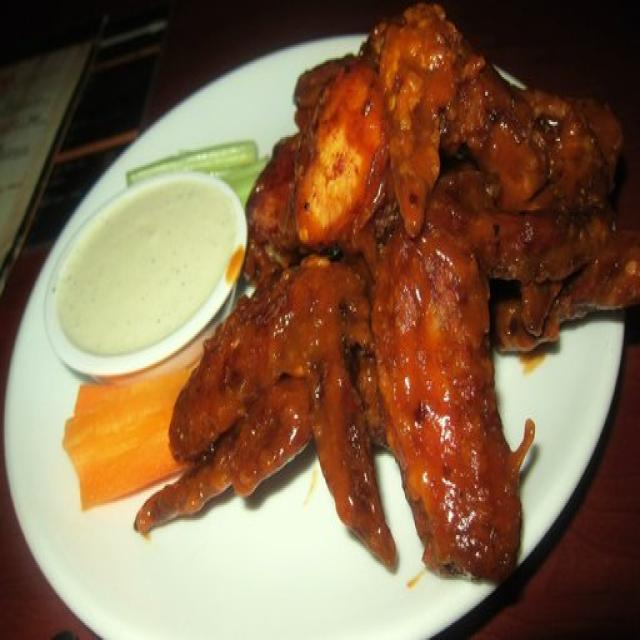Frango: (173, 267, 398, 573), (360, 245, 534, 574)
